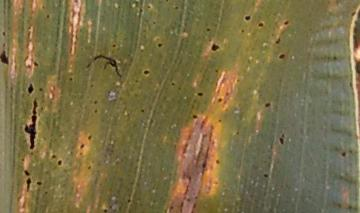tarspot: (93, 55, 122, 78), (25, 99, 38, 150), (1, 49, 10, 65), (25, 177, 32, 192), (211, 42, 220, 51), (23, 168, 31, 177), (28, 83, 33, 95), (278, 53, 286, 60), (256, 22, 264, 28), (263, 102, 271, 108), (86, 164, 92, 171), (111, 42, 117, 49), (143, 69, 150, 75), (196, 91, 203, 97), (201, 162, 207, 169), (244, 15, 251, 21), (278, 138, 284, 145), (262, 172, 269, 178), (347, 204, 354, 210), (276, 37, 281, 45), (351, 10, 356, 18), (2, 41, 8, 47), (86, 62, 92, 68), (51, 153, 57, 159), (205, 27, 211, 33), (217, 97, 223, 103), (224, 91, 230, 97), (126, 198, 132, 204), (57, 159, 62, 166), (337, 202, 342, 209), (36, 181, 43, 186), (174, 5, 180, 10), (171, 81, 176, 87), (192, 114, 198, 119), (134, 78, 139, 84), (217, 117, 222, 123), (235, 130, 240, 136), (284, 20, 289, 26), (192, 202, 197, 208), (342, 151, 346, 158), (170, 204, 174, 211), (2, 31, 7, 36), (34, 61, 39, 66), (80, 144, 85, 149), (87, 135, 92, 140), (140, 108, 145, 113), (158, 43, 163, 48), (139, 8, 144, 13), (215, 160, 220, 165), (240, 28, 245, 33), (348, 149, 353, 154), (194, 195, 199, 200), (187, 197, 192, 202), (103, 208, 108, 213), (43, 190, 48, 195), (46, 13, 50, 19), (333, 55, 337, 61), (42, 5, 46, 10), (40, 106, 44, 111), (94, 100, 98, 105), (94, 109, 98, 114), (147, 5, 152, 9), (214, 68, 218, 73), (281, 133, 285, 138), (40, 88, 44, 92), (69, 77, 73, 81), (90, 84, 94, 88), (21, 158, 25, 162), (152, 21, 156, 25), (178, 86, 182, 90), (75, 1, 79, 4), (236, 79, 240, 82), (165, 1, 170, 3), (80, 153, 83, 156)
